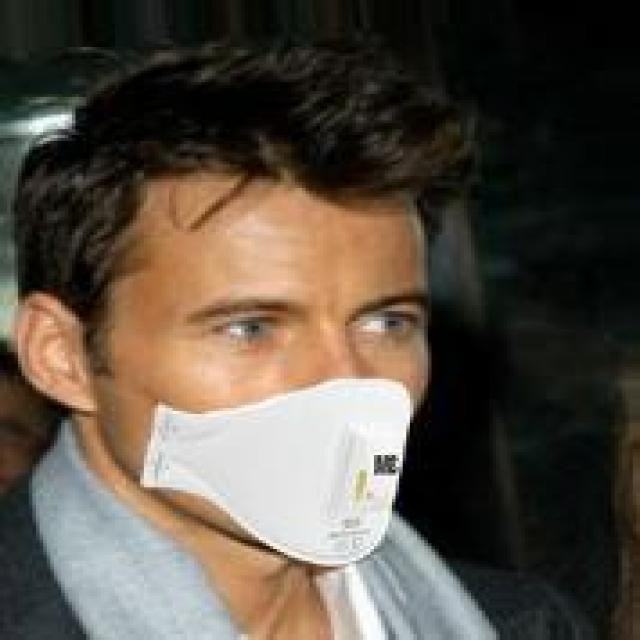mask: (61, 97, 486, 584)
